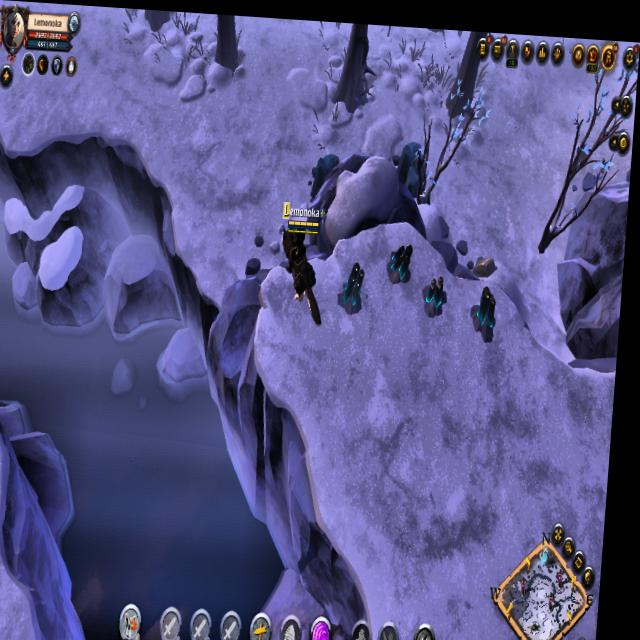ore tier 4: (341, 254, 375, 314), (473, 275, 504, 340), (389, 232, 419, 283), (426, 268, 454, 316)
